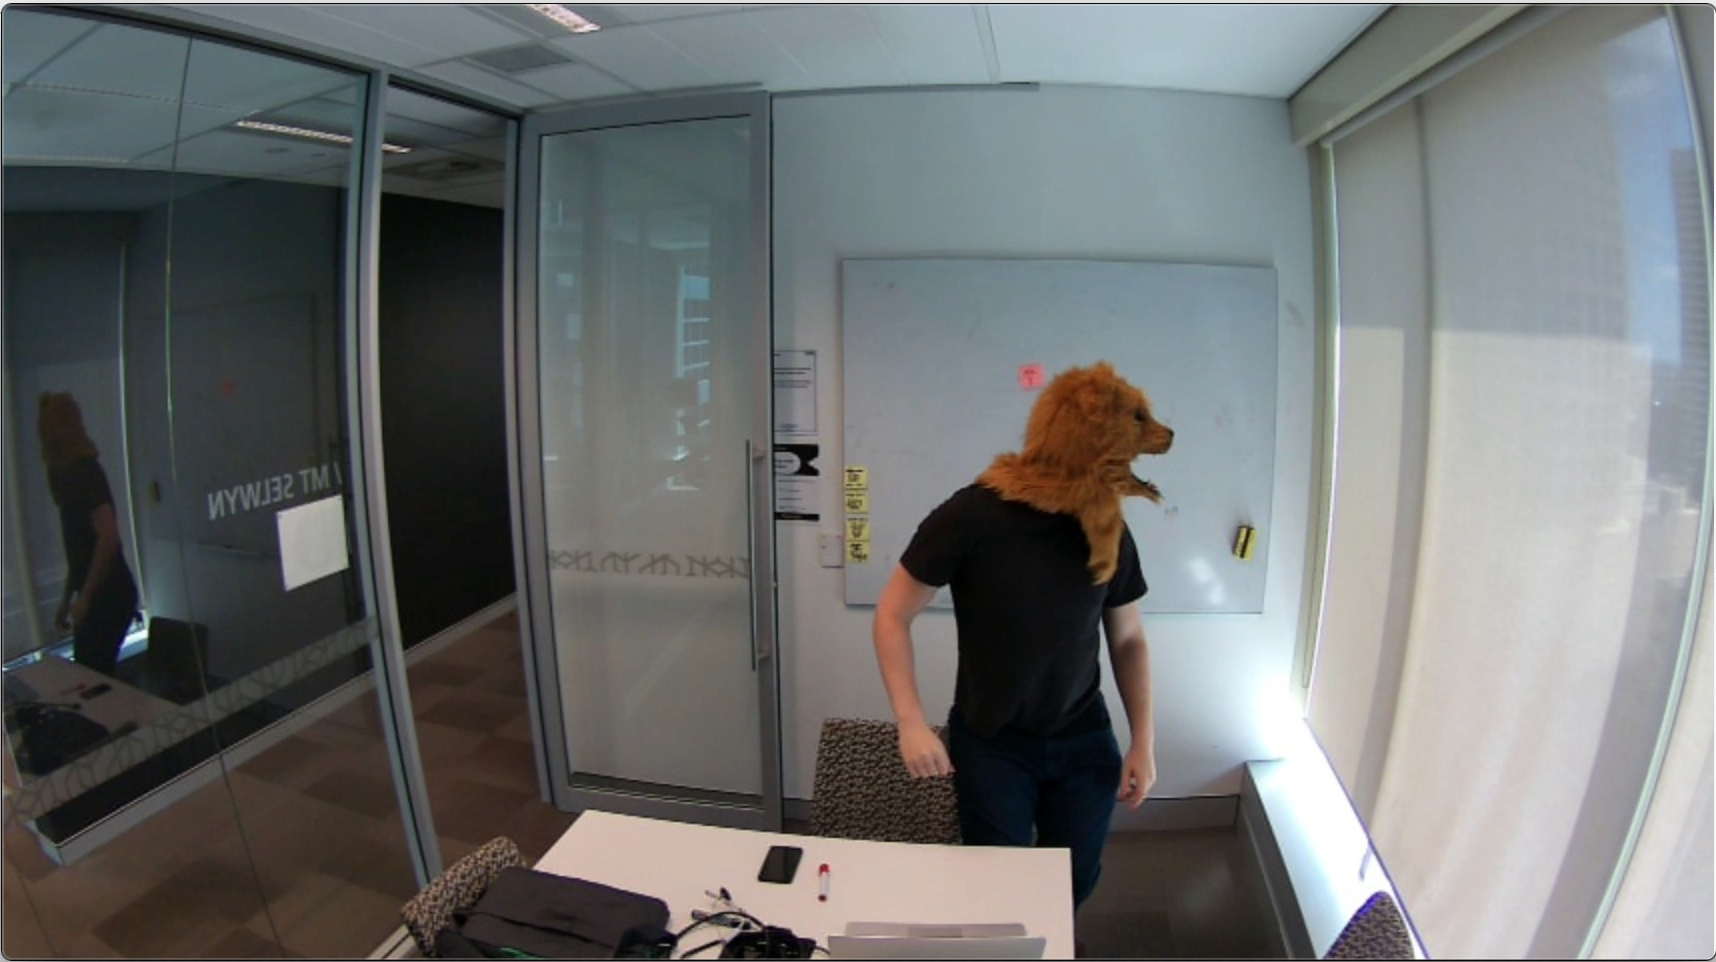Bear: (1023, 352, 1177, 507)
